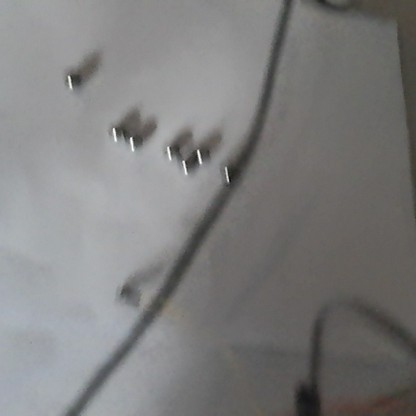ironball: (62, 68, 84, 94), (214, 160, 236, 186), (174, 155, 198, 178), (159, 138, 180, 162), (191, 142, 210, 165), (104, 120, 123, 142), (123, 129, 140, 150)
